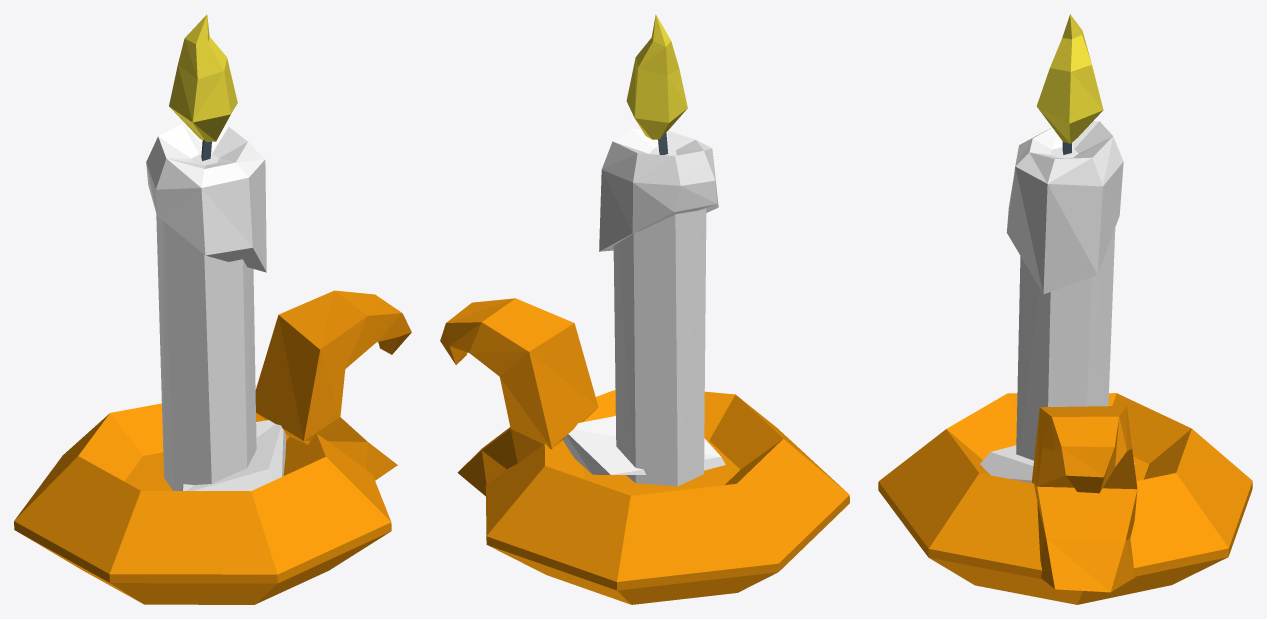
The model's file is mdl_candle_main_v2.gltf.
The picture shows the model from 3 angles, left to right: view 1: azimuth 30°, elevation 25°; view 2: azimuth 150°, elevation 25°; view 3: azimuth 270°, elevation 25°; orthographic projection.
Visible parts, largest first — view 1: Candle and Holder; view 2: Candle and Holder; view 3: Candle and Holder.
Part boxes in pixels (bbox=[...]): Candle and Holder: bbox=[14, 14, 411, 604]; Candle and Holder: bbox=[440, 14, 849, 604]; Candle and Holder: bbox=[878, 14, 1252, 604].
Bounding box in the file's own units: 0.4681 × 0.6775 × 0.4231.
